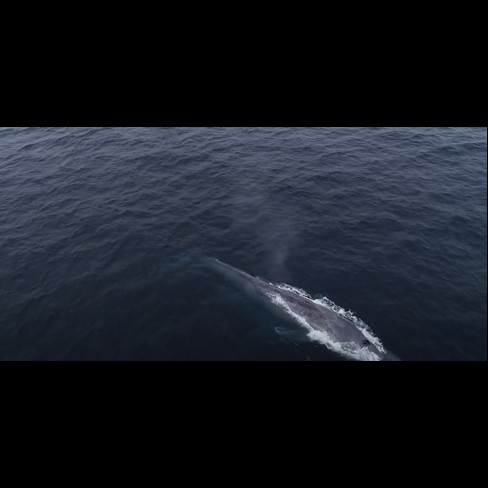bluewhale: (119, 205, 401, 360)
